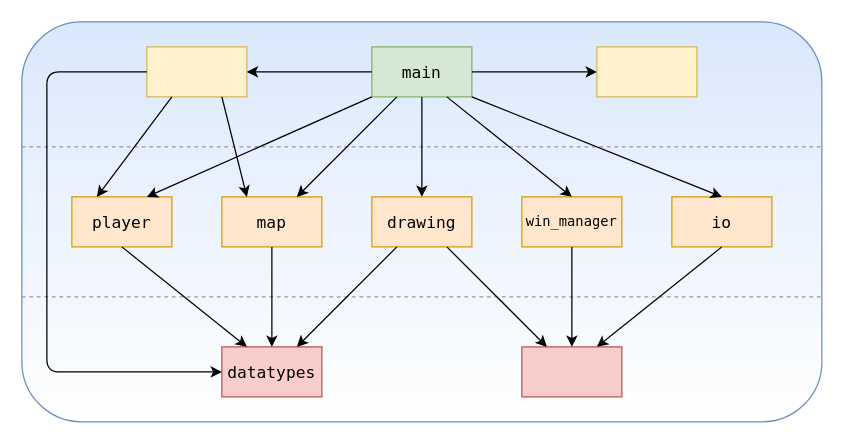
Some shapes in this 845 by 444 pixel diagram are drawn without their labels. Here are the shapes that lost their labels. From the top down, the centre of each, then its label:
At [196,71]: "raycaster".
At [646,71]: "config".
At [571,371]: "window_api".
